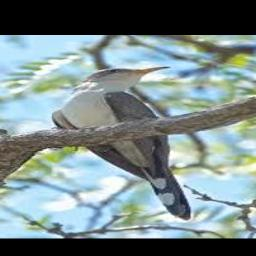Cuckoo: (52, 66, 193, 220)
